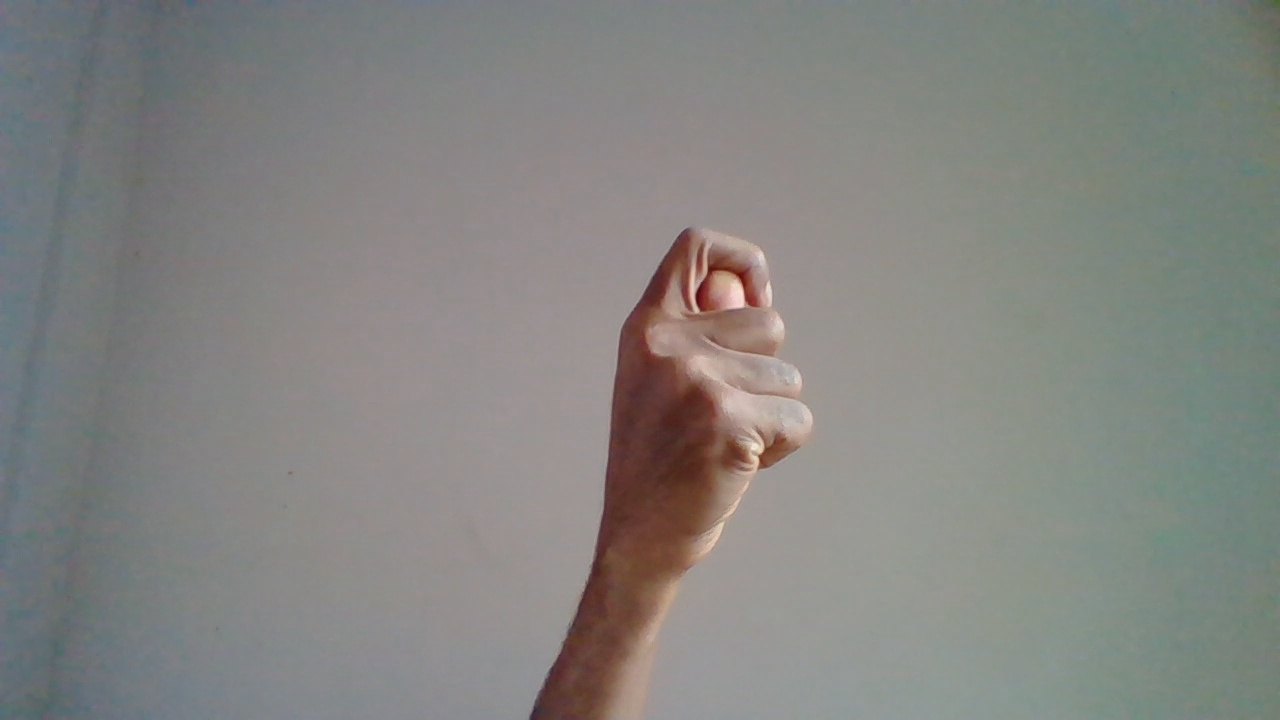che: (603, 230, 795, 674)
